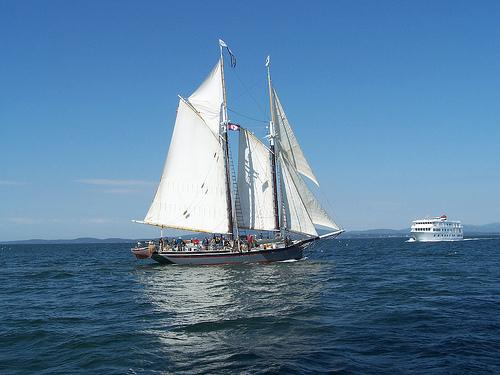Ship: (133, 41, 343, 269), (411, 216, 465, 243)
